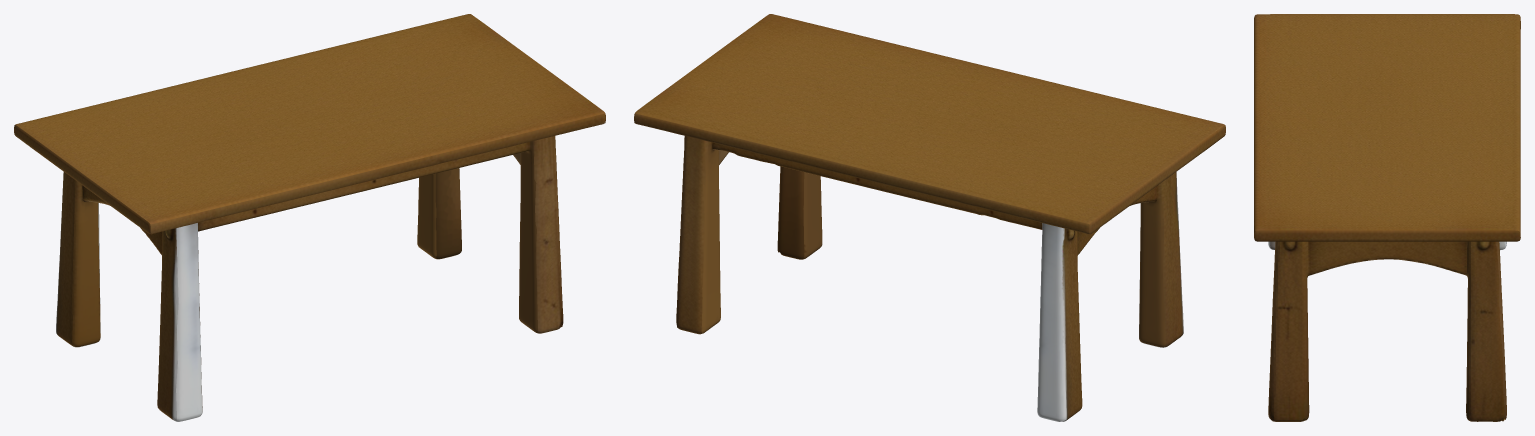
Rendered from desk__desk#4.glb.
3 views of the same model, side by side, from view 1: azimuth 30°, elevation 25°; view 2: azimuth 150°, elevation 25°; view 3: azimuth 270°, elevation 25° (orthographic). The views are drawn at different scales.
Visible parts, largest first — view 1: tmpibq47cav.ply; view 2: tmpibq47cav.ply; view 3: tmpibq47cav.ply.
Boxes of the visible parts, left/top/right/bottom form: tmpibq47cav.ply: left=14, top=14, right=605, bottom=421; tmpibq47cav.ply: left=634, top=14, right=1225, bottom=421; tmpibq47cav.ply: left=1254, top=14, right=1520, bottom=421.
Size of the model in its own units: 1.99 by 0.8936 by 1.03.
Materials: 1 (1 with a texture image).
